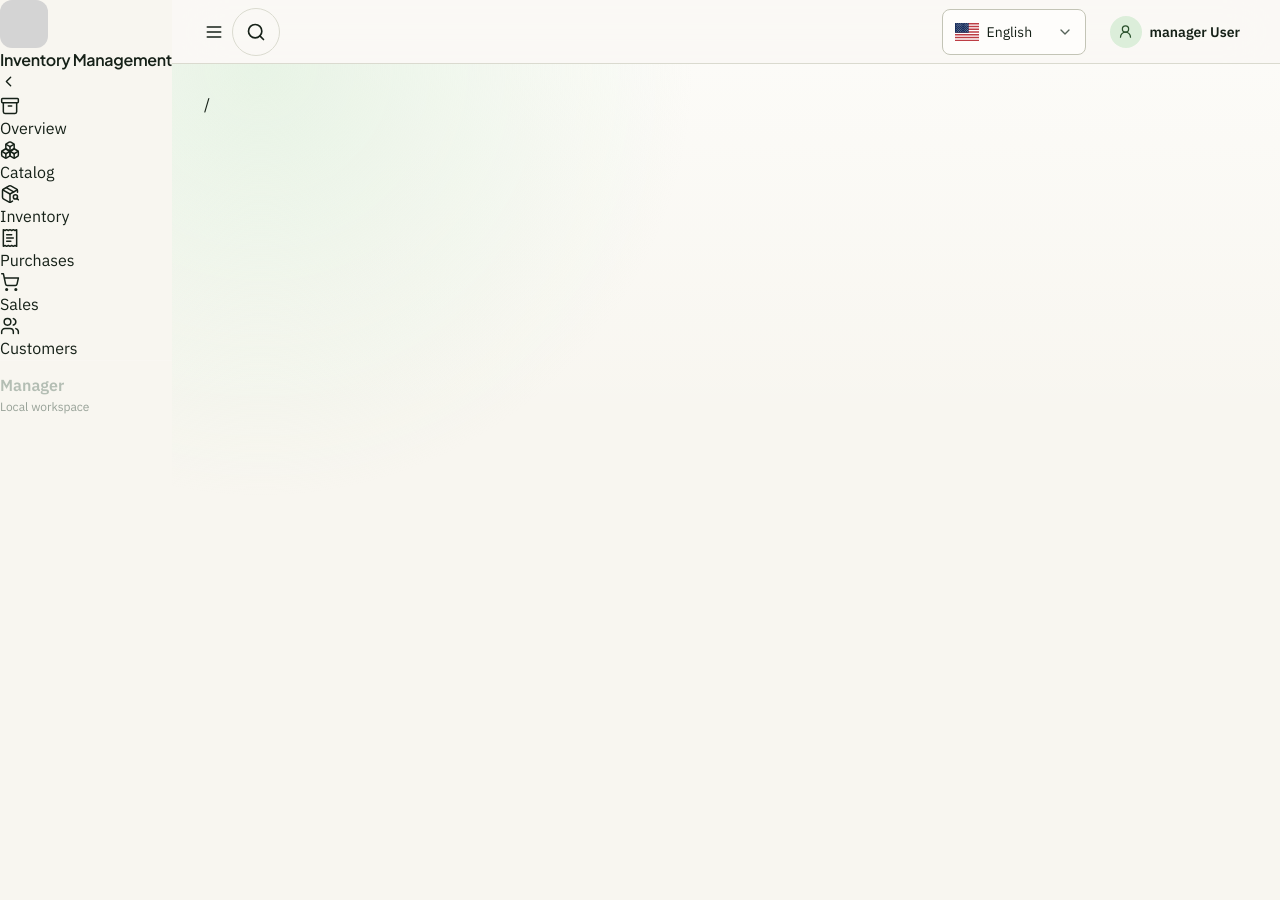
Test: AppShell global product search › uses ASCII-safe search status, empty-result, and category copy
Type keys "/"
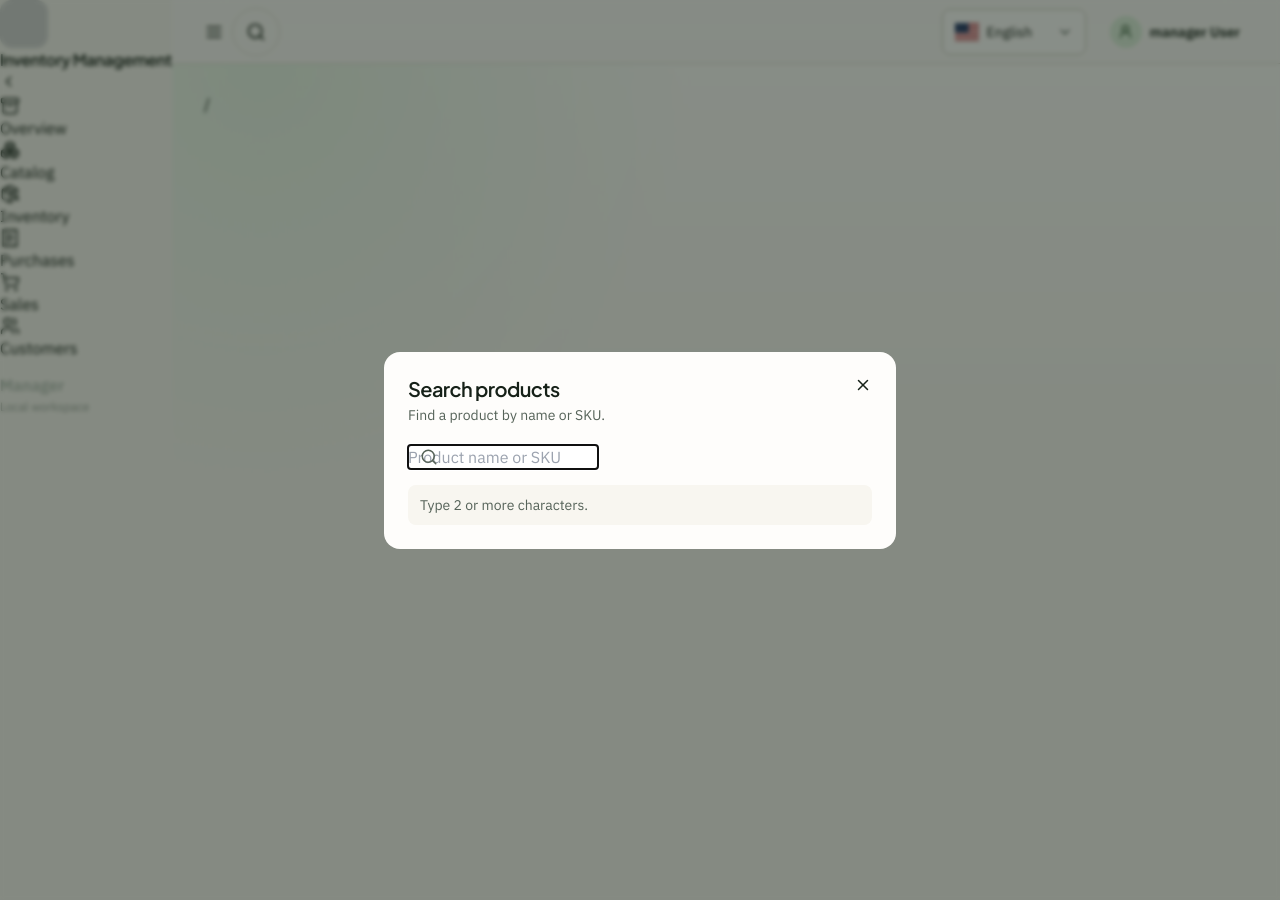
In the field named "Search products": (503, 456) x1=408 y1=444 x2=598 y2=468, type "no"
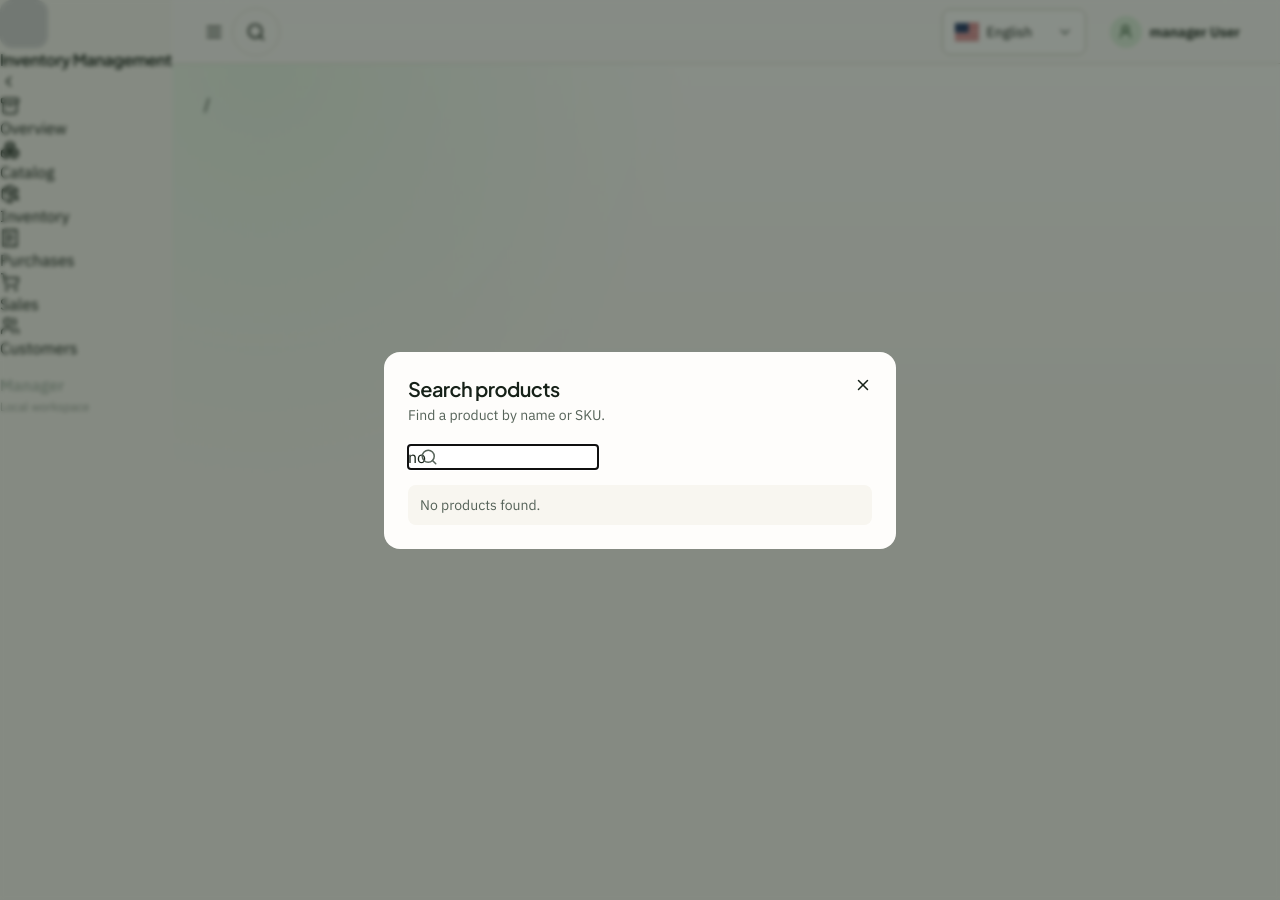
Expected: the text "No products found." is shown, x1=408 y1=484 x2=872 y2=524
Replace the text in the field named "Search products" with "notes": (503, 456) x1=408 y1=444 x2=598 y2=468
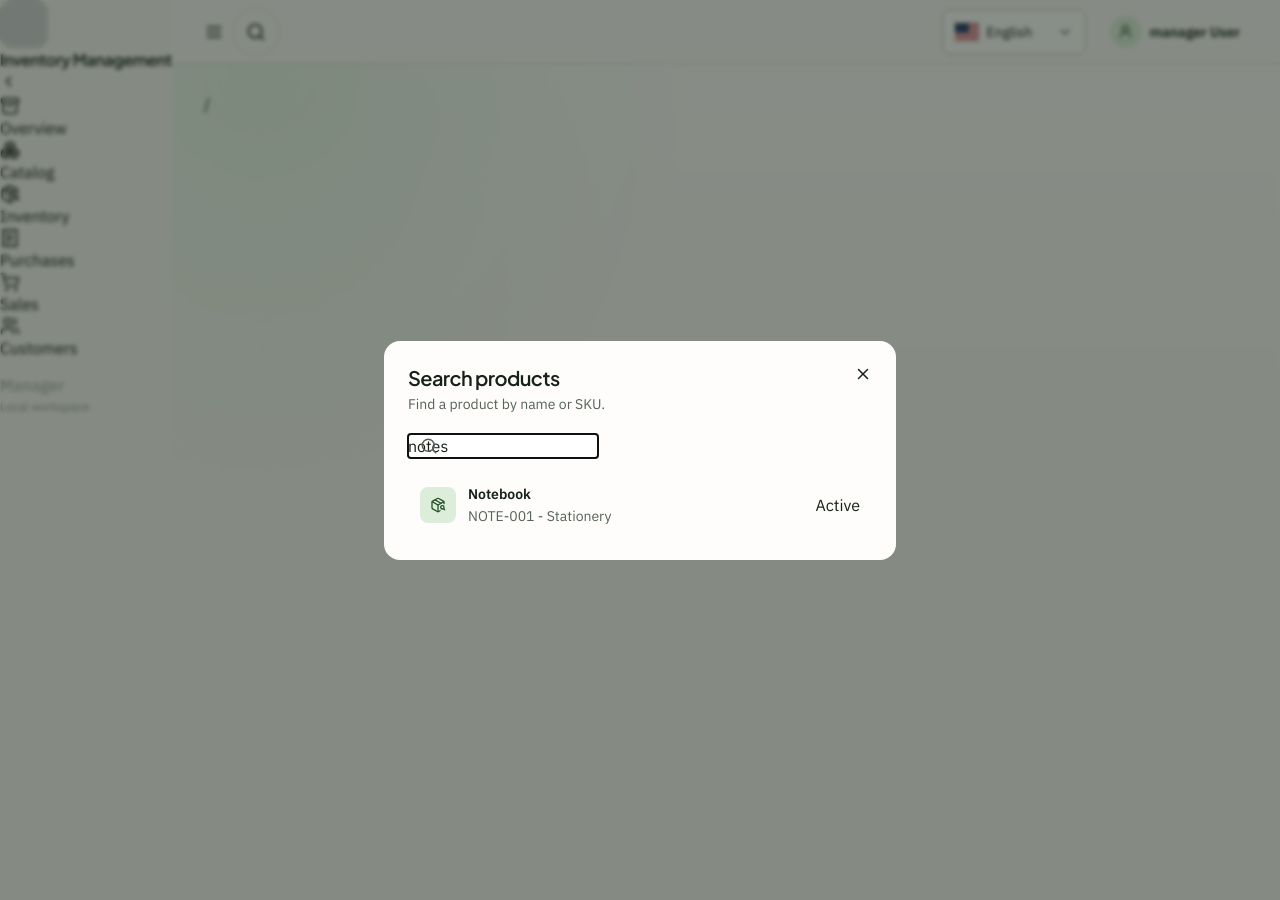
Expected: the text "NOTE-001 - Stationery" is shown, x1=468 y1=506 x2=611 y2=524
